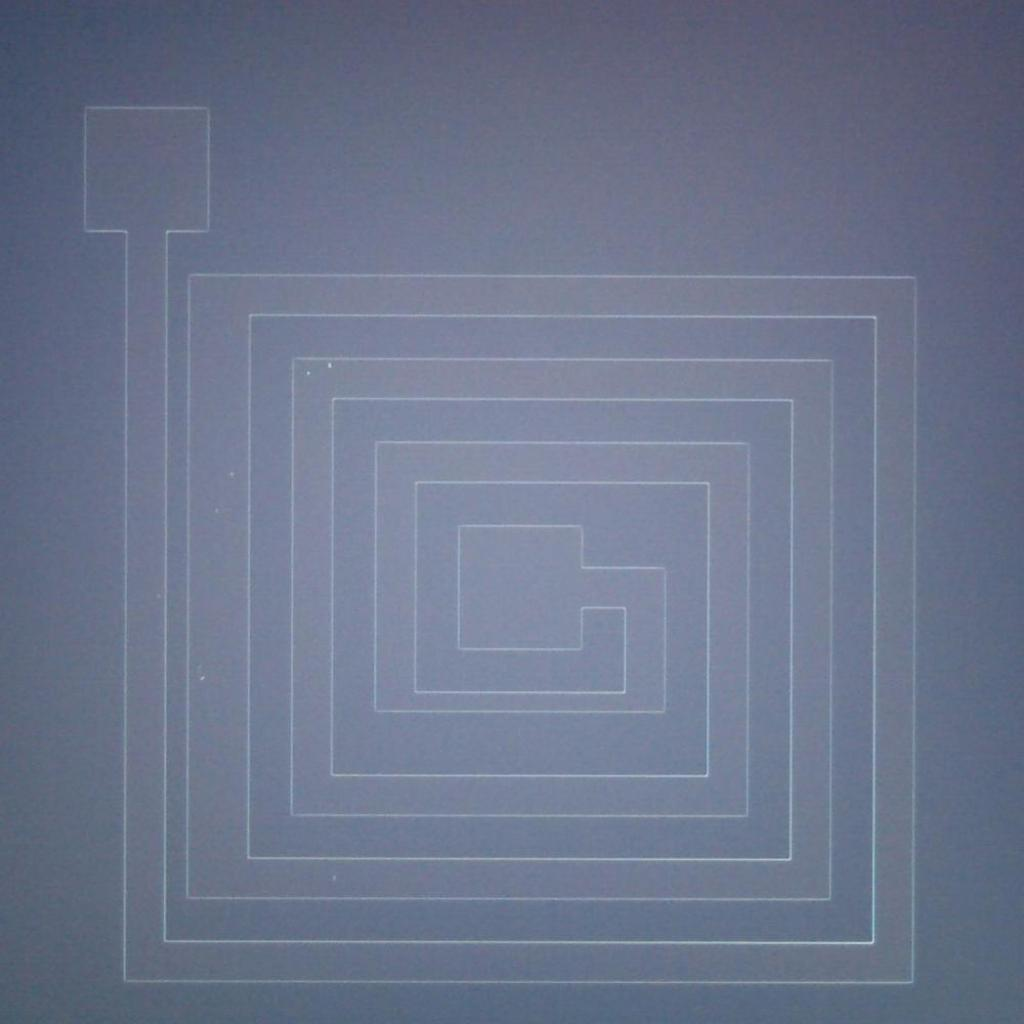dot: (326, 363, 332, 368), (332, 875, 337, 880), (306, 370, 310, 374), (230, 472, 234, 476), (200, 676, 204, 680)
